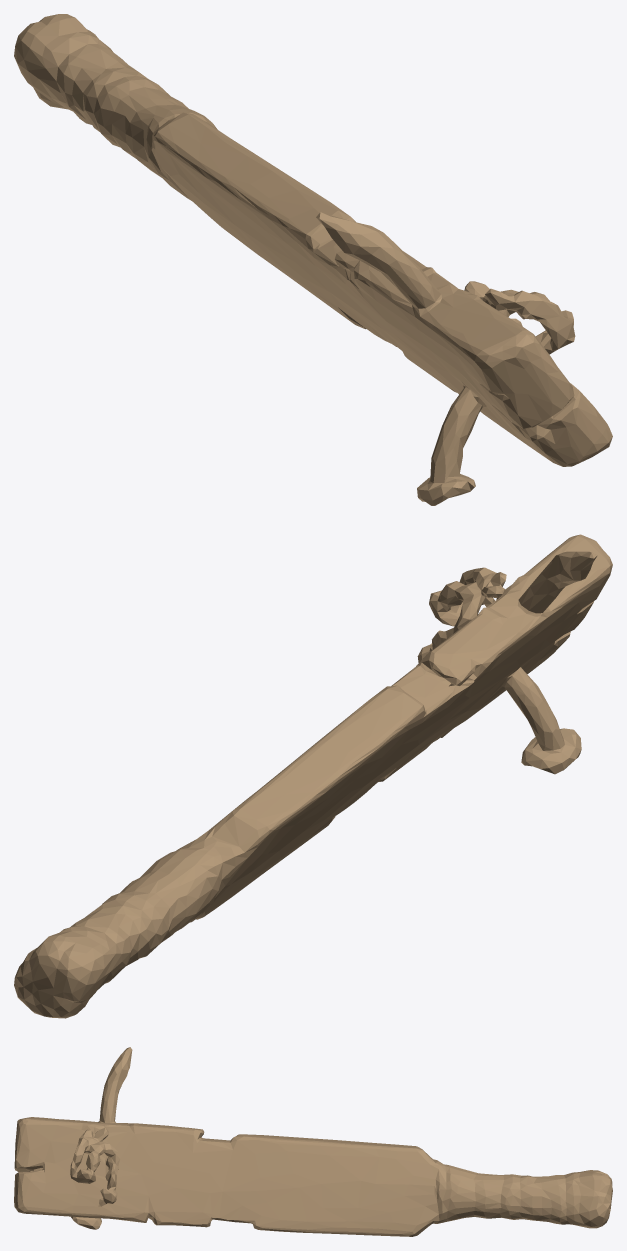
Rendered from board.glb.
The picture shows the model from 3 angles, top to bottom: view 1: azimuth 30°, elevation 25°; view 2: azimuth 150°, elevation 25°; view 3: azimuth 270°, elevation 25°; orthographic projection. The views are drawn at different scales.
Parts seen in each view (by area): view 1: world; view 2: world; view 3: world.
Boxes of the visible parts, bbox=[...] form: world: bbox=[14, 14, 612, 505]; world: bbox=[14, 534, 612, 1018]; world: bbox=[14, 1047, 612, 1236].
Size of the model in its own units: 0.1626 by 0.2007 by 0.7.
